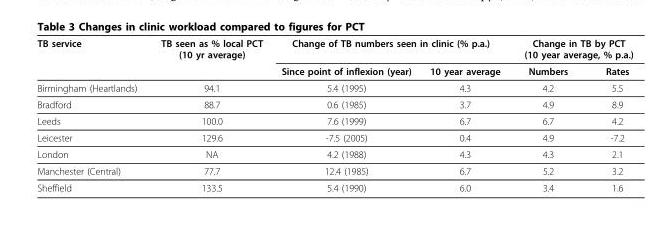table: (36, 37, 632, 192)
table column: (271, 37, 419, 192), (148, 37, 271, 192), (36, 37, 148, 192), (419, 37, 511, 192), (511, 37, 586, 192), (586, 37, 632, 192)
table column header: (36, 37, 632, 79)
table row: (36, 37, 632, 62), (36, 62, 632, 79), (36, 95, 632, 112), (36, 112, 632, 129), (36, 145, 632, 162), (36, 162, 632, 179), (36, 79, 632, 95), (36, 129, 632, 145), (36, 179, 632, 192)
table spanning cell: (271, 37, 511, 62), (148, 37, 271, 79), (36, 37, 148, 79), (511, 37, 632, 62)
